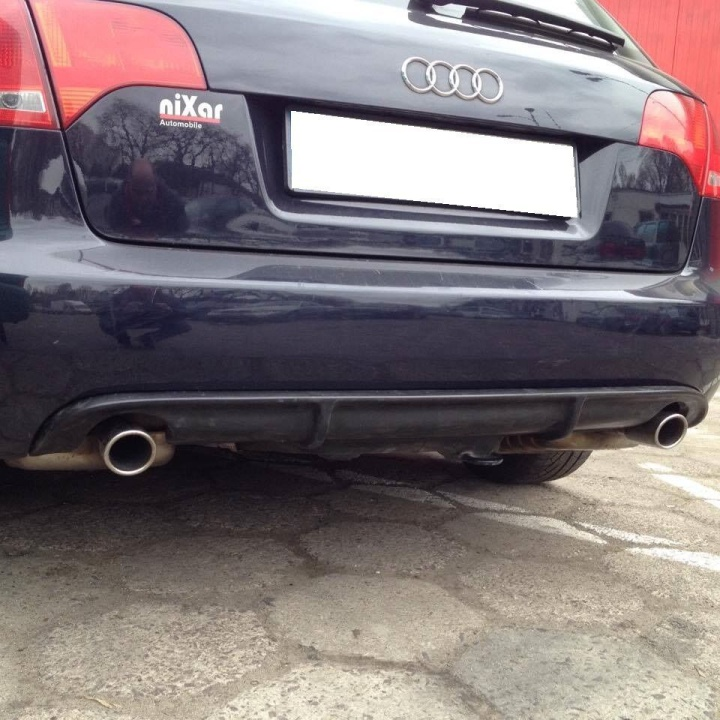audi: (397, 50, 509, 106)
